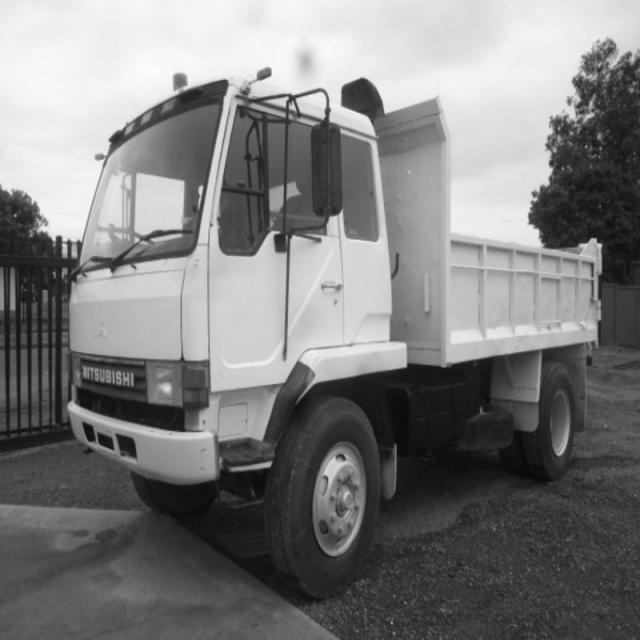truck: (32, 41, 448, 548)
